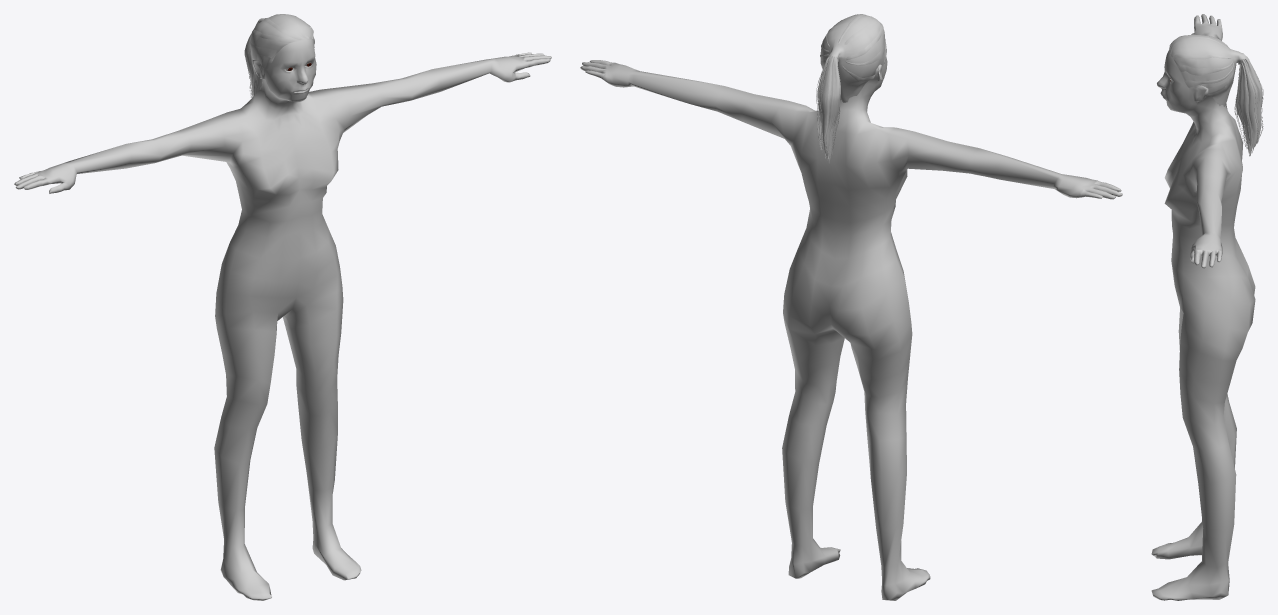
The model's file is Civil_Mulher_SemOsso.fbx.
3 renders of one model, left to right at view 1: azimuth 30°, elevation 25°; view 2: azimuth 150°, elevation 25°; view 3: azimuth 270°, elevation 25°, orthographic. The views are drawn at different scales.
Visible parts, largest first — view 1: male1591Mesh, ponytail01Mesh; view 2: male1591Mesh, ponytail01Mesh; view 3: male1591Mesh, ponytail01Mesh.
Boxes of the visible parts, left/top/right/bottom form: male1591Mesh: left=14, top=39, right=551, bottom=600; ponytail01Mesh: left=244, top=14, right=314, bottom=97; male1591Mesh: left=580, top=56, right=1122, bottom=600; ponytail01Mesh: left=816, top=14, right=886, bottom=163; male1591Mesh: left=1151, top=14, right=1255, bottom=600; ponytail01Mesh: left=1169, top=34, right=1263, bottom=156.
Size of the model in its own units: 61.34 by 60.98 by 11.48.
